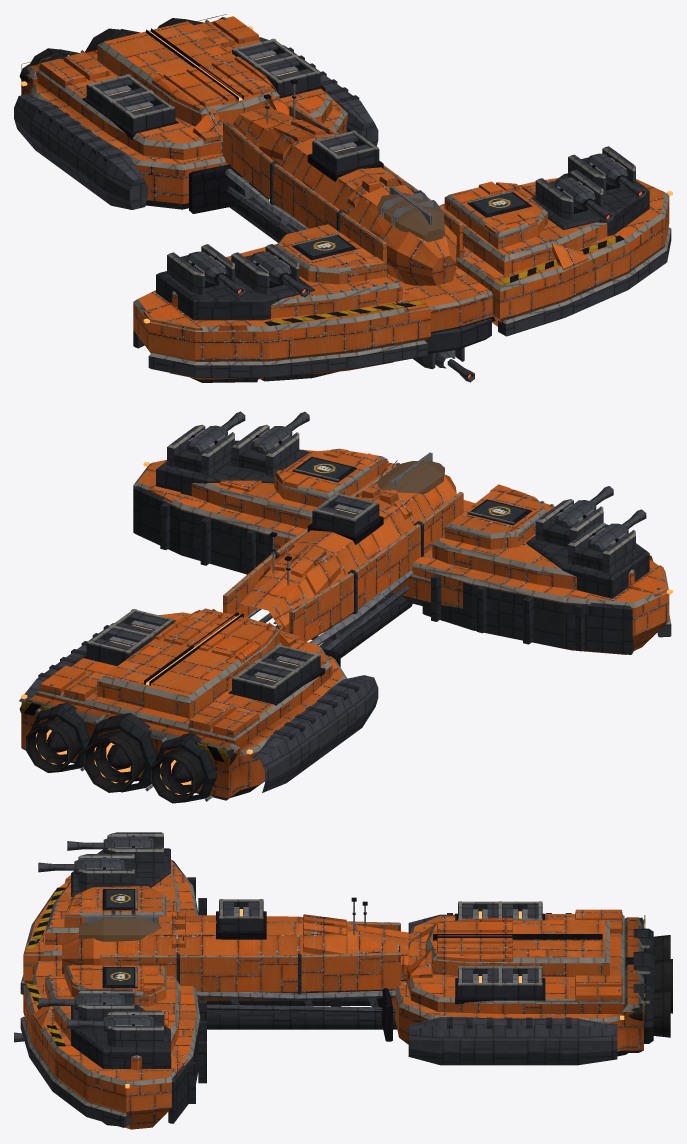
The model's file is saturn-schiff3.glb.
The picture shows the model from 3 angles, top to bottom: view 1: azimuth 30°, elevation 25°; view 2: azimuth 150°, elevation 25°; view 3: azimuth 270°, elevation 25°; orthographic projection. The views are drawn at different scales.
Visible parts, largest first — view 1: Hull_LOD0, Laser_03, Laser_02, Laser_01, Laser_04, Faction_Insignia_Left, Insignia_ClanSlot_Right; view 2: Hull_LOD0, Laser_04, Laser_03, Laser_01, Laser_02, Faction_Insignia_Left, Insignia_ClanSlot_Right; view 3: Hull_LOD0, Laser_04, Laser_01, Laser_03, Laser_02, Insignia_ClanSlot_Right, Faction_Insignia_Left.
Boxes of the visible parts, x1=… form: Hull_LOD0: x1=14, y1=14, x2=672, y2=382; Laser_03: x1=250, y1=251, x2=309, y2=297; Laser_02: x1=587, y1=153, x2=646, y2=199; Laser_01: x1=554, y1=177, x2=613, y2=223; Laser_04: x1=186, y1=251, x2=245, y2=297; Faction_Insignia_Left: x1=473, y1=193, x2=526, y2=213; Insignia_ClanSlot_Right: x1=298, y1=235, x2=351, y2=256; Hull_LOD0: x1=19, y1=424, x2=672, y2=803; Laser_04: x1=587, y1=509, x2=646, y2=551; Laser_03: x1=554, y1=486, x2=613, y2=528; Laser_01: x1=250, y1=411, x2=309, y2=453; Laser_02: x1=186, y1=411, x2=245, y2=453; Faction_Insignia_Left: x1=298, y1=458, x2=351, y2=478; Insignia_ClanSlot_Right: x1=473, y1=500, x2=526, y2=521; Hull_LOD0: x1=20, y1=832, x2=672, y2=1129; Laser_04: x1=67, y1=835, x2=153, y2=853; Laser_01: x1=38, y1=992, x2=124, y2=1010; Laser_03: x1=38, y1=857, x2=124, y2=875; Laser_02: x1=67, y1=1014, x2=153, y2=1031; Insignia_ClanSlot_Right: x1=106, y1=889, x2=133, y2=907; Faction_Insignia_Left: x1=106, y1=967, x2=133, y2=984.
Size of the model in its own units: 45.75 by 13.66 by 54.36.
6 materials, 4 textured.
